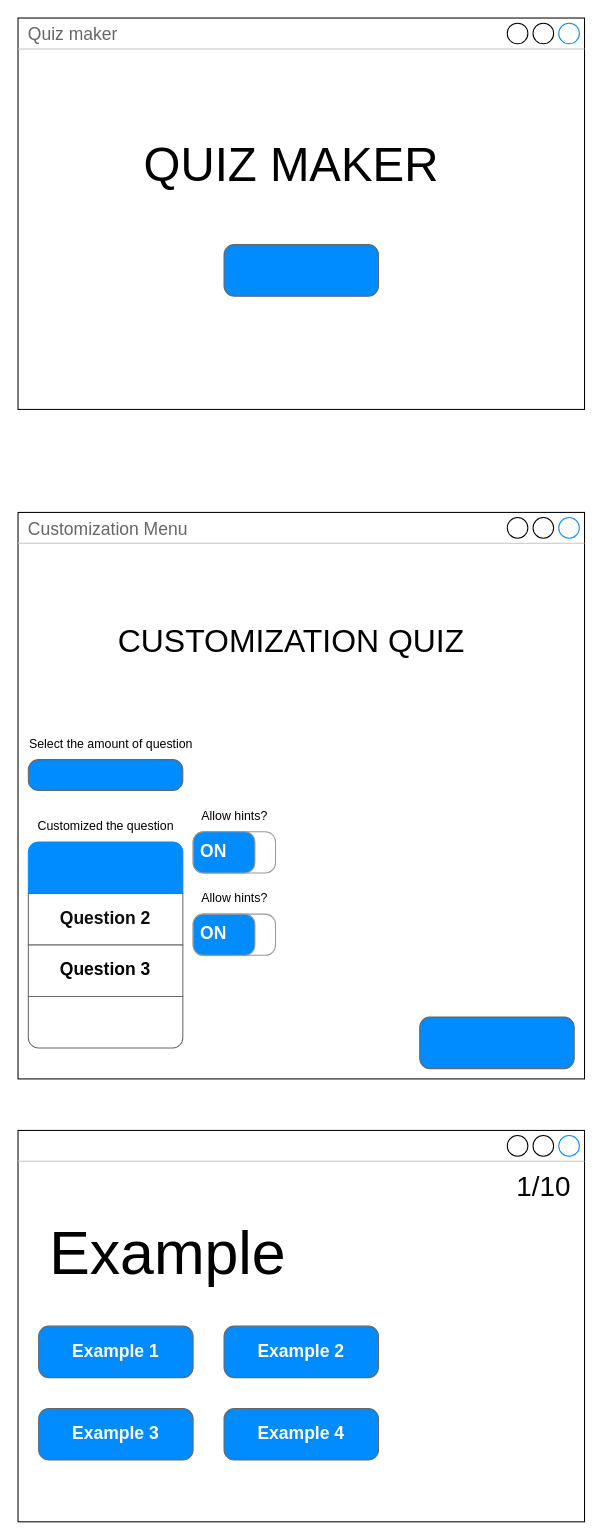
This 603x1540 diagram has some shape labels left out. Here are the shapes that lost their labels. From the top down, the box of each, then its label:
(223, 244, 379, 296): Press to make a quiz
(27, 841, 183, 894): Question 1
(27, 995, 183, 1048): Question 4
(419, 1016, 574, 1069): Click here to start the quiz
(17, 1129, 585, 1522): Question
